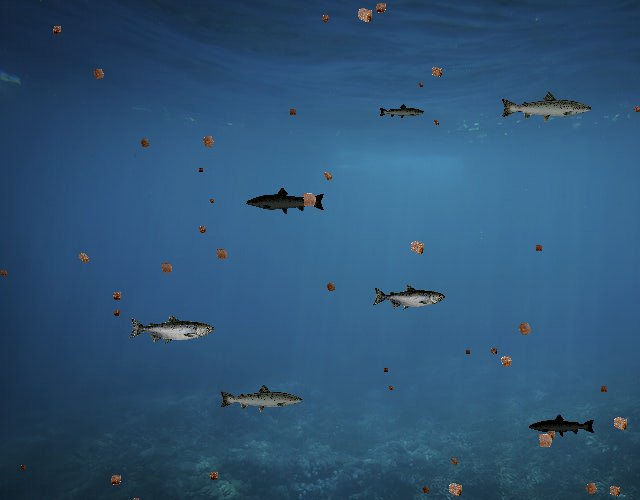Fish: (499, 91, 593, 124), (218, 383, 304, 414), (128, 314, 214, 345), (245, 186, 326, 216), (372, 285, 445, 311), (528, 413, 596, 438), (378, 104, 425, 121)
Pellet: (512, 316, 538, 342), (494, 349, 519, 374), (72, 247, 94, 269), (486, 344, 501, 358), (206, 196, 216, 206)
